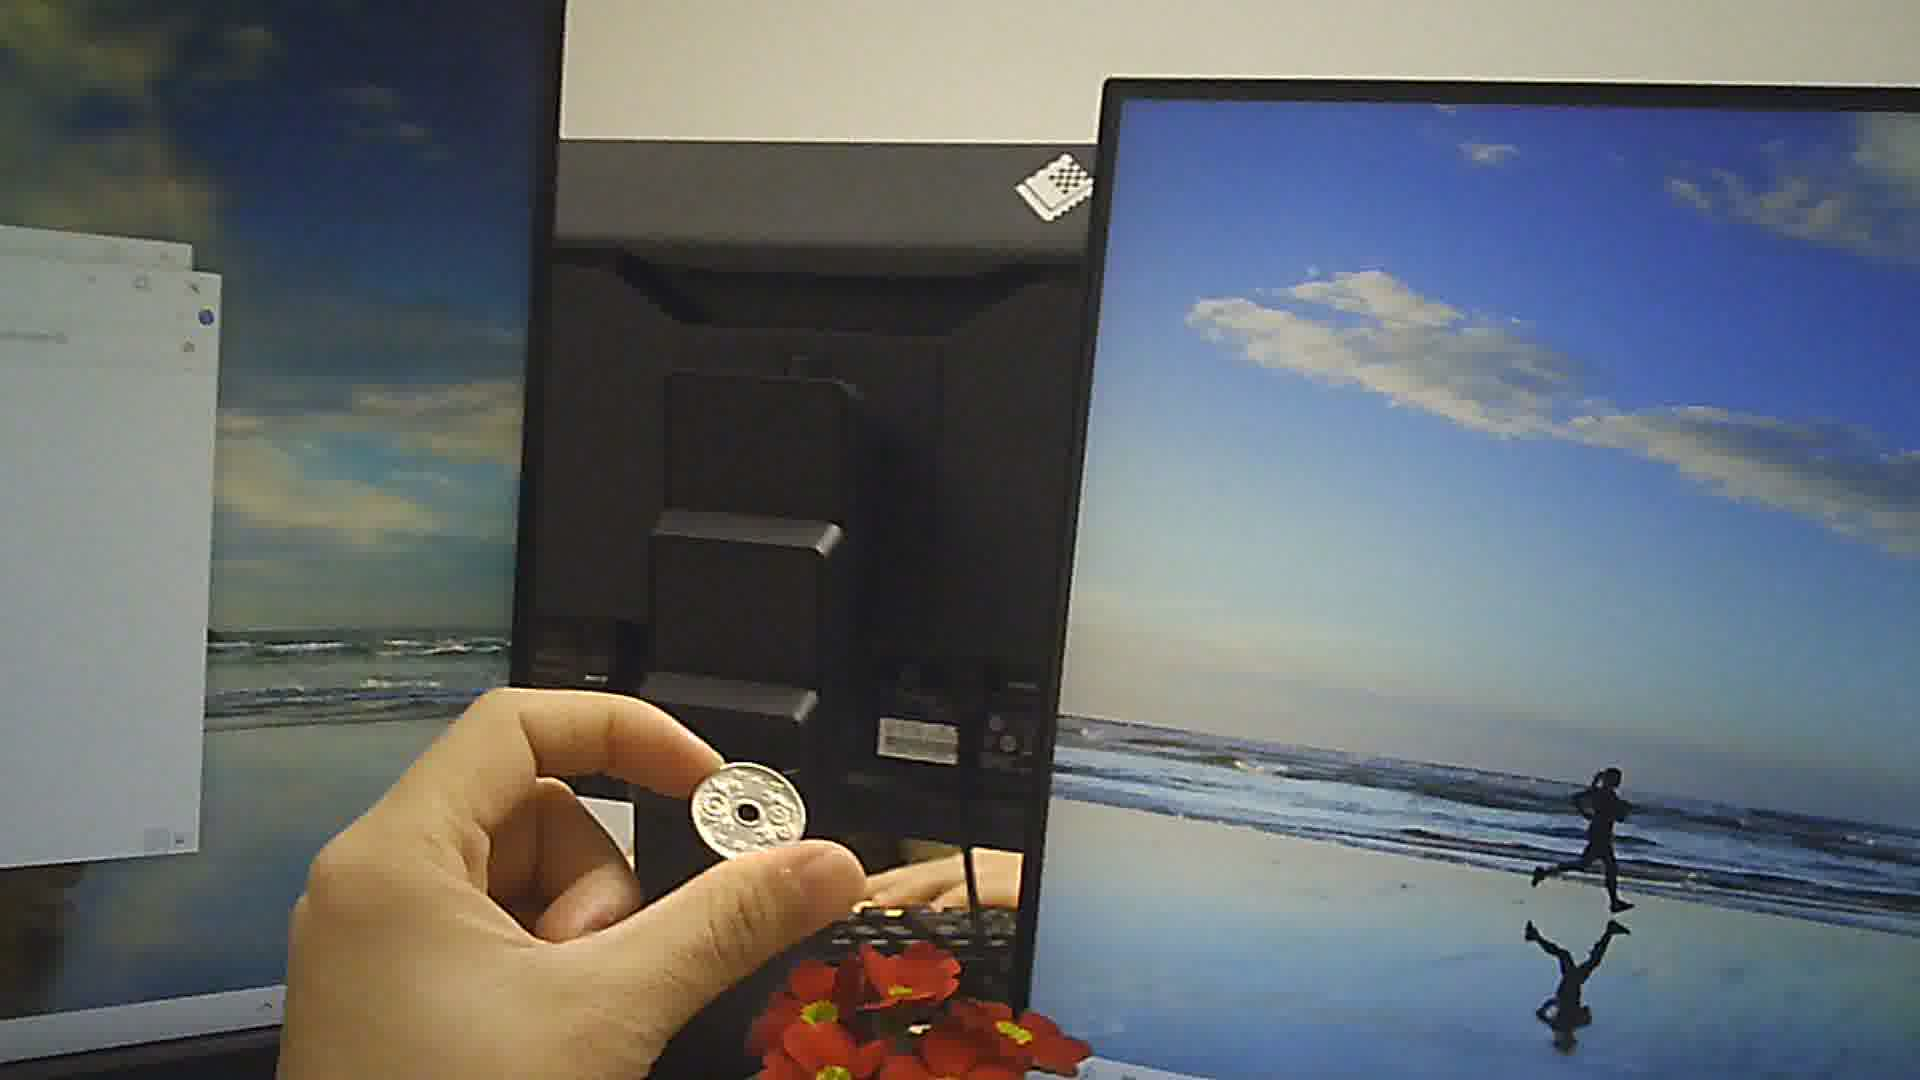50 Yen: (684, 748, 814, 869)
